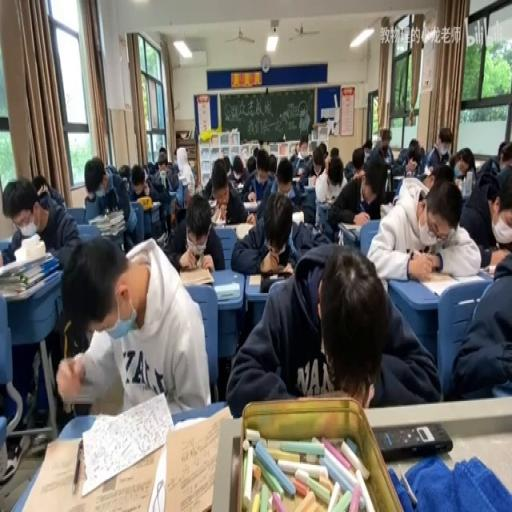calculator: (14, 424, 166, 509), (156, 404, 230, 509), (416, 270, 467, 297), (177, 266, 214, 286), (214, 282, 240, 300), (340, 222, 363, 240), (233, 222, 254, 240), (66, 391, 94, 404), (477, 264, 496, 278), (379, 200, 393, 218), (291, 209, 304, 226), (167, 186, 178, 202), (248, 272, 262, 284), (422, 163, 433, 175), (291, 174, 304, 184), (242, 201, 258, 209), (177, 174, 189, 184), (306, 176, 316, 188), (207, 196, 216, 209), (150, 199, 161, 209), (392, 174, 403, 182), (236, 180, 243, 190)
paper: (225, 239, 432, 417), (2, 174, 82, 422), (366, 170, 480, 282), (452, 245, 512, 401), (229, 188, 322, 276), (85, 155, 137, 250), (194, 159, 248, 229), (139, 158, 174, 239), (312, 153, 347, 222), (488, 192, 510, 253), (34, 173, 66, 212), (394, 136, 424, 176), (342, 142, 368, 184), (294, 135, 319, 178), (447, 148, 475, 186), (426, 126, 451, 168), (365, 130, 391, 170), (275, 158, 294, 192), (428, 164, 454, 188), (400, 176, 426, 200), (230, 155, 246, 183), (130, 168, 146, 195), (117, 162, 132, 188), (496, 141, 510, 165), (220, 154, 232, 176), (318, 140, 328, 164), (245, 155, 255, 178), (267, 152, 277, 174), (328, 145, 338, 158), (146, 160, 155, 174), (107, 163, 117, 175), (251, 144, 259, 158), (289, 149, 297, 162), (158, 145, 166, 157), (409, 144, 416, 155), (172, 156, 178, 165)
person: (374, 422, 451, 461), (260, 273, 290, 293)
